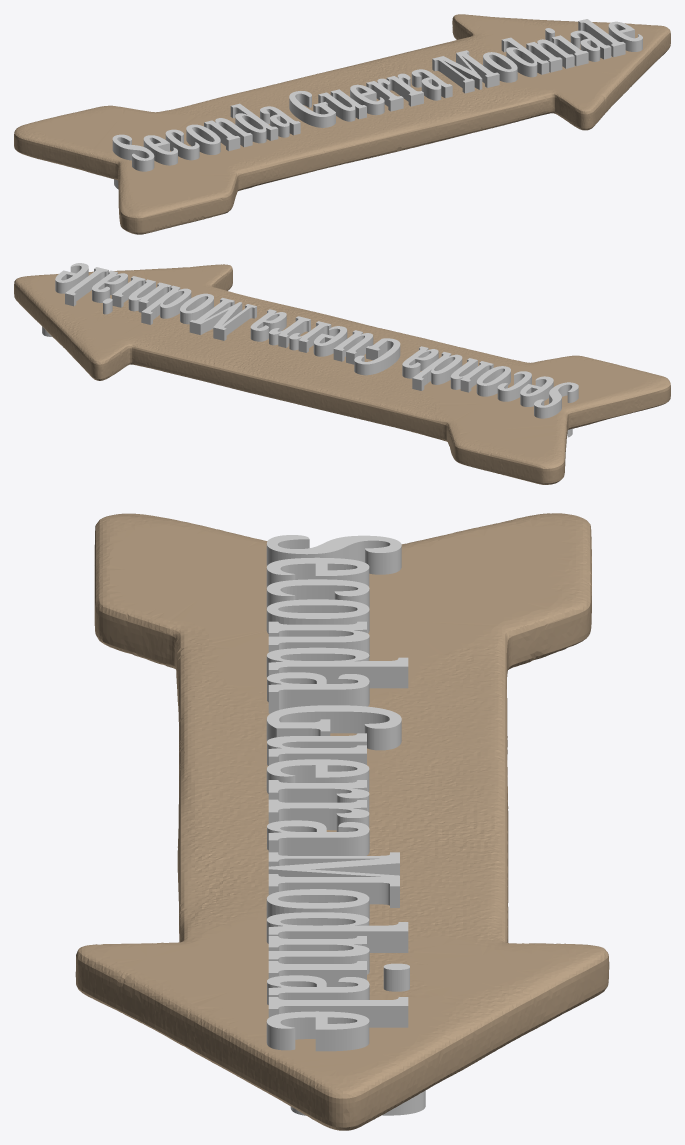
Rendered from Cartello Seconda Guerra Mondiale.glb.
3 views of the same model, one above another, from view 1: azimuth 30°, elevation 25°; view 2: azimuth 150°, elevation 25°; view 3: azimuth 270°, elevation 25° (orthographic). The views are drawn at different scales.
Parts seen in each view (by area): view 1: Mesh_Mesh_head_geo.001_lambert2SG.001; view 2: Mesh_Mesh_head_geo.001_lambert2SG.001; view 3: Mesh_Mesh_head_geo.001_lambert2SG.001.
Boxes of the visible parts, box(x1,y1,x2,y2) form: Mesh_Mesh_head_geo.001_lambert2SG.001: box(14, 14, 670, 234); Mesh_Mesh_head_geo.001_lambert2SG.001: box(14, 263, 670, 484); Mesh_Mesh_head_geo.001_lambert2SG.001: box(75, 513, 609, 1130).
Size of the model in its own units: 0.058 by 0.004 by 0.0223.
